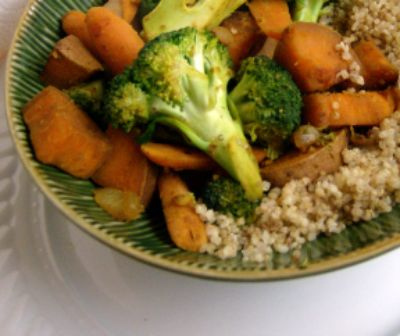broccoli: (107, 24, 267, 202), (225, 53, 305, 141)
